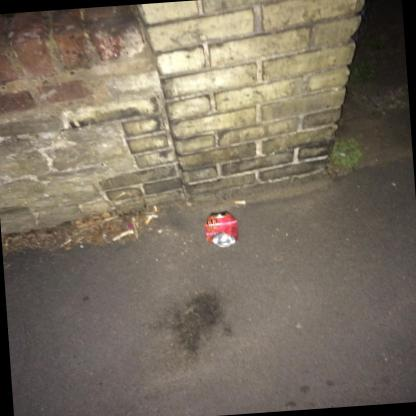Metal: (205, 212, 238, 247)
Paper: (145, 216, 152, 224), (235, 201, 245, 204)
